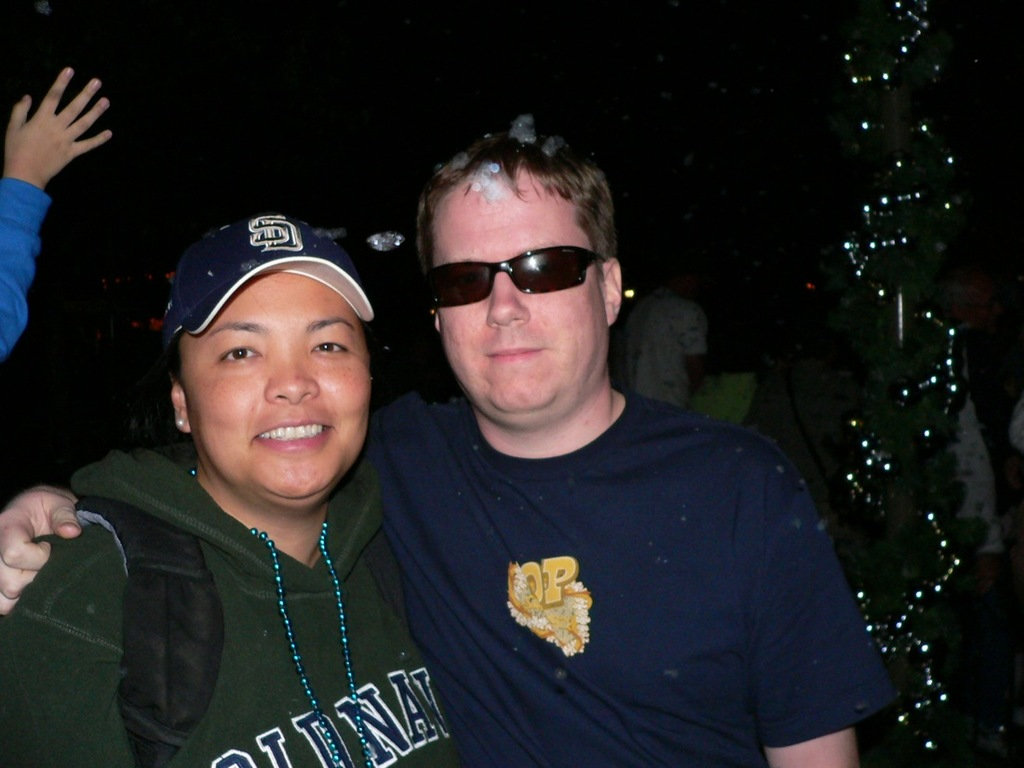Human_hand: (14, 57, 106, 180), (0, 485, 85, 614)
